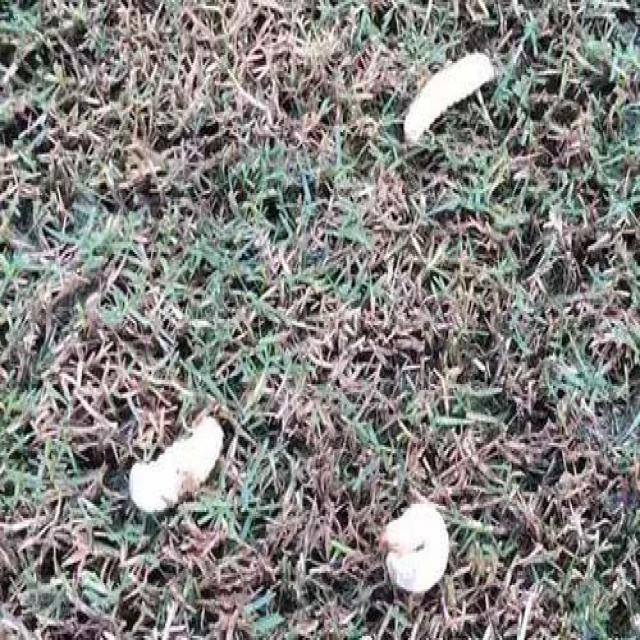Grub-Adult-: (120, 408, 250, 548), (388, 29, 505, 154), (356, 480, 468, 604)
